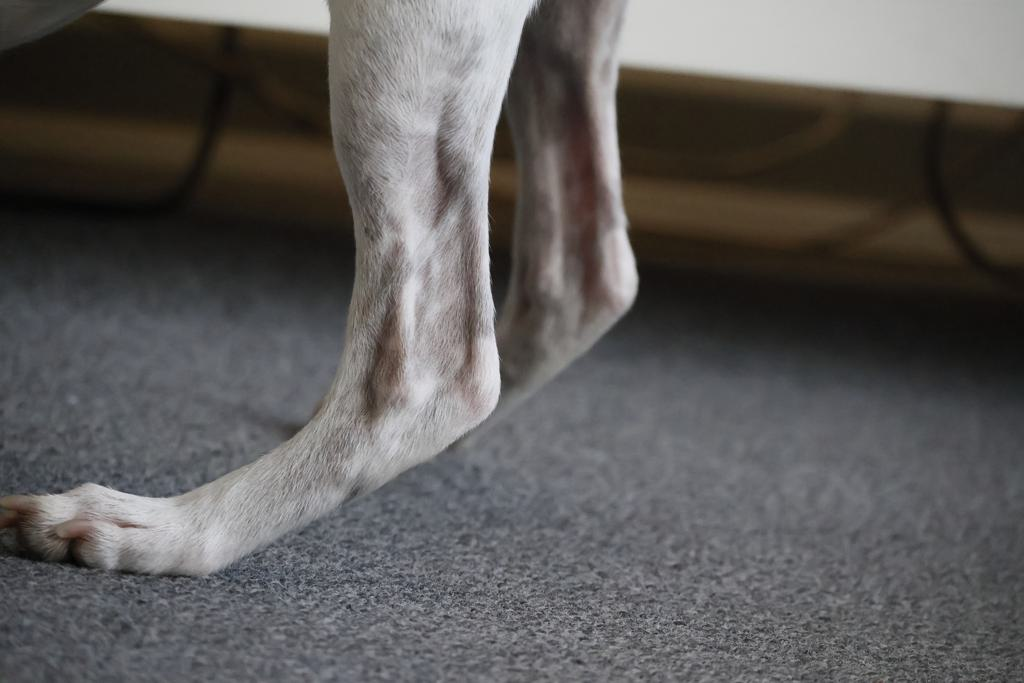Dog: (0, 0, 654, 585)
